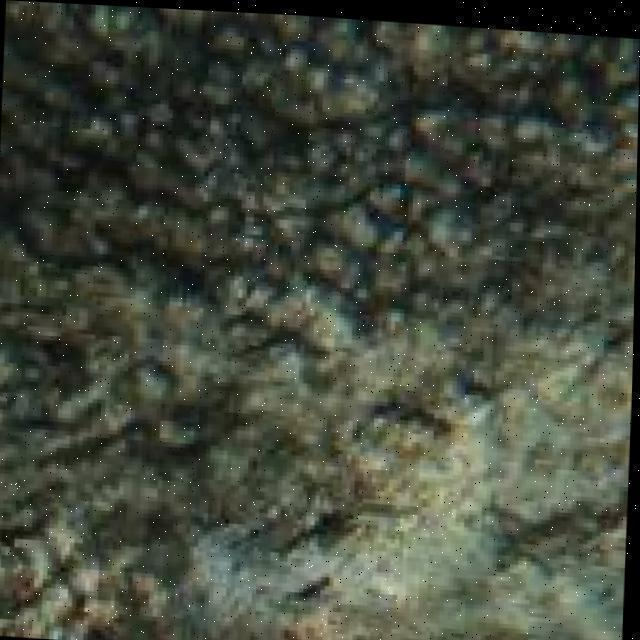Dead Coral: (0, 25, 604, 286)
